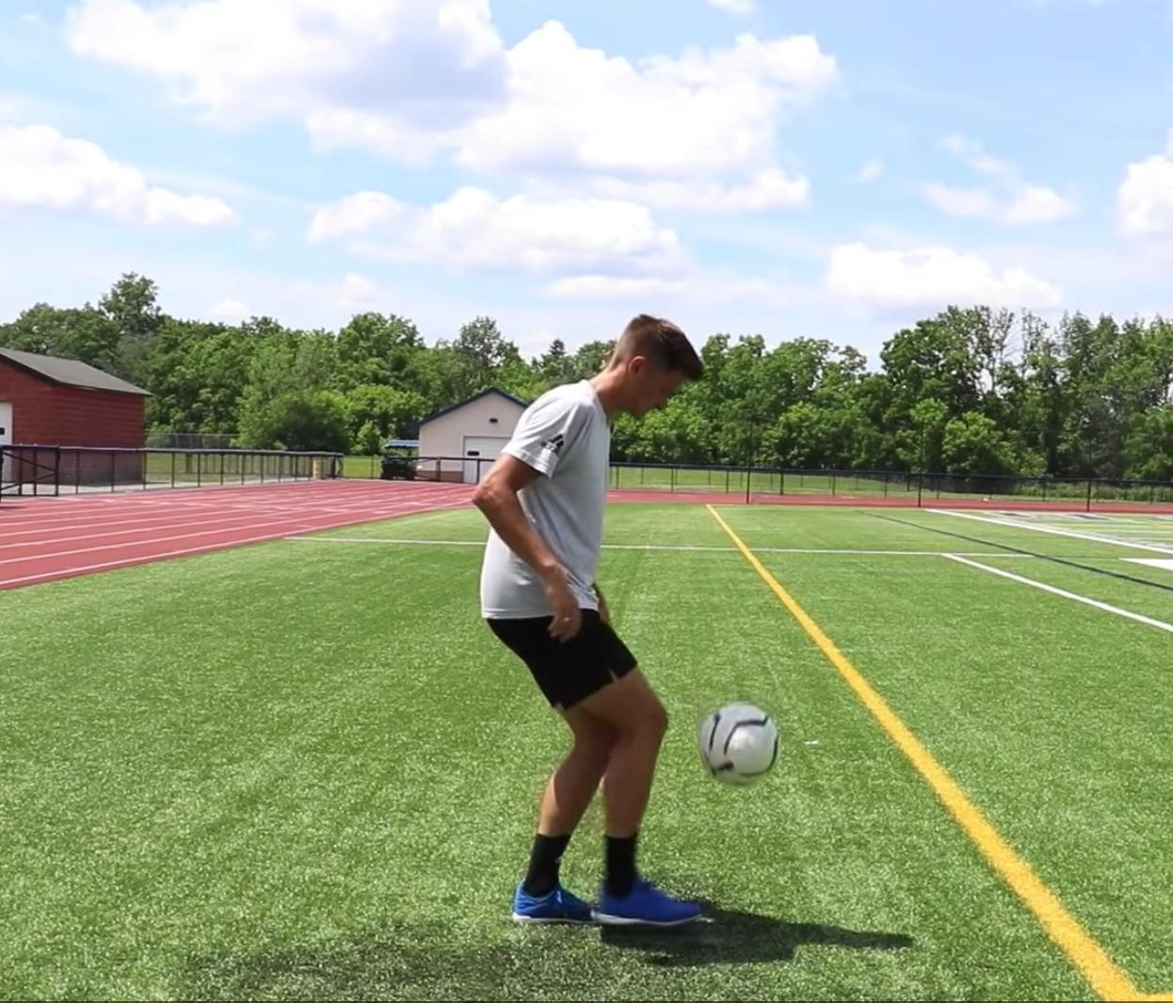ball: (699, 704, 779, 786)
foot: (593, 883, 710, 926), (513, 887, 601, 921)
person: (478, 312, 702, 931)
